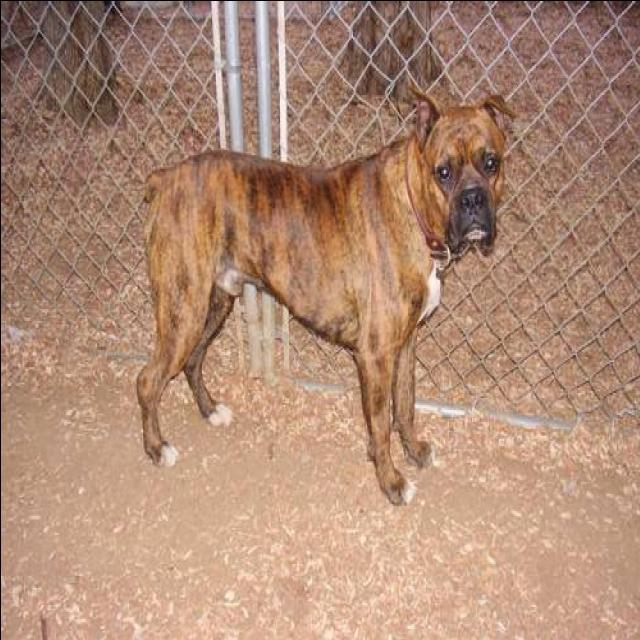dog: (108, 75, 523, 511)
